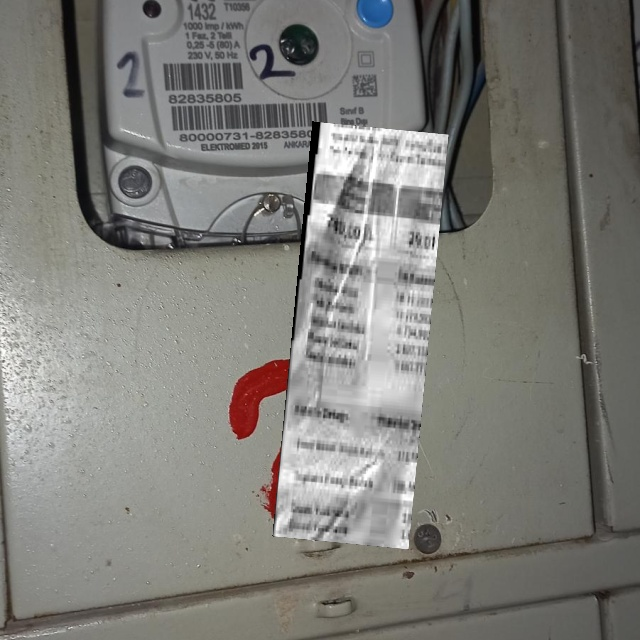electricity-bill: (272, 121, 448, 550)
